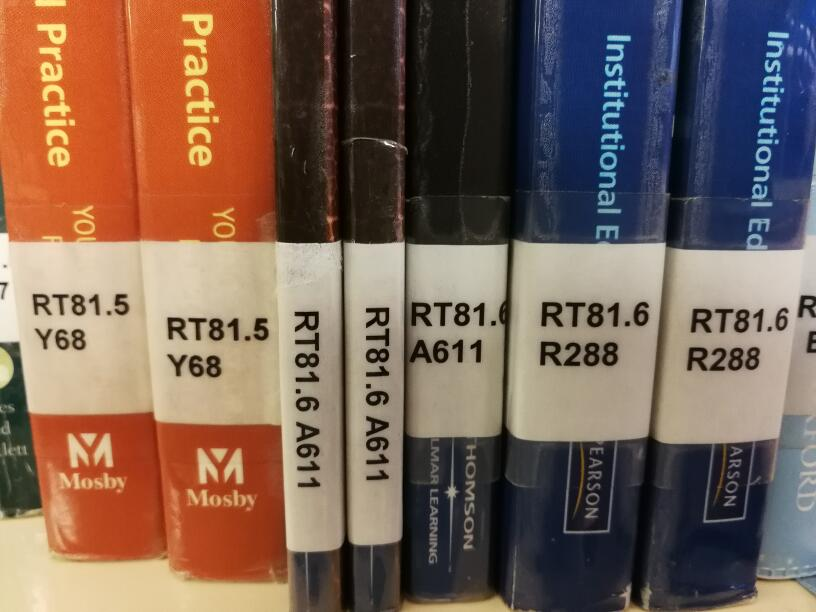booklabel: (159, 311, 272, 384), (537, 297, 651, 367), (683, 303, 792, 373), (288, 306, 327, 491), (407, 297, 508, 367), (29, 288, 134, 354), (359, 303, 394, 485)
